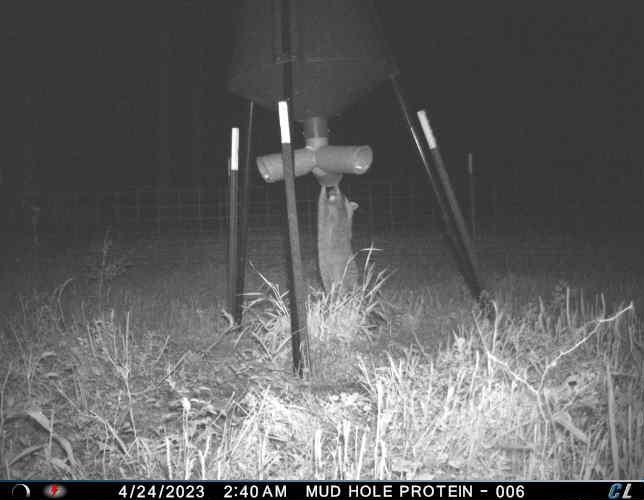Raccoon: (313, 180, 364, 312)
